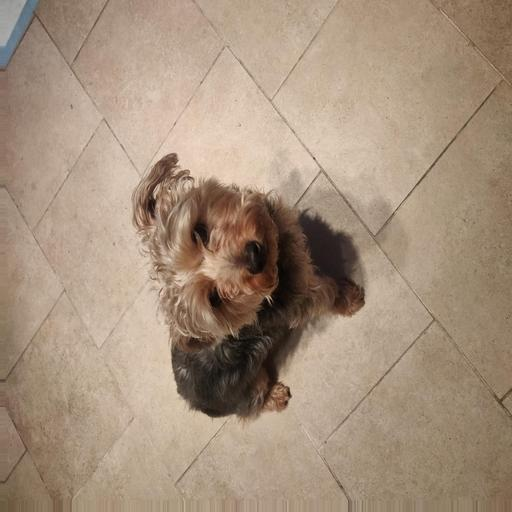dog: (124, 149, 366, 391)
